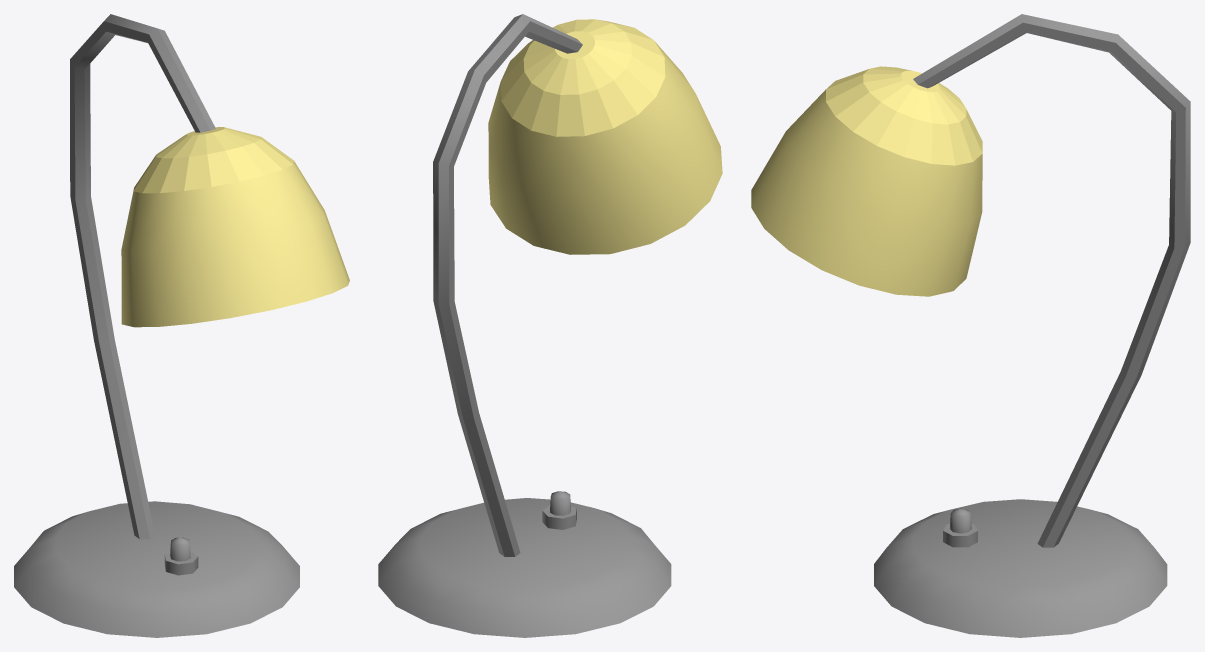
Rendered from lamp5.fbx.
The picture shows the model from 3 angles, left to right: view 1: azimuth 30°, elevation 25°; view 2: azimuth 150°, elevation 25°; view 3: azimuth 270°, elevation 25°; orthographic projection. The views are drawn at different scales.
Parts seen in each view (by area): view 1: node_id11 (×3); view 2: node_id11 (×3); view 3: node_id11 (×3).
Part boxes in pixels (x1=…): node_id11 (×3): x1=14, y1=14, x2=349, y2=637; node_id11 (×3): x1=378, y1=14, x2=722, y2=637; node_id11 (×3): x1=751, y1=14, x2=1190, y2=637.
Size of the model in its own units: 0.246 by 0.512 by 0.363.
